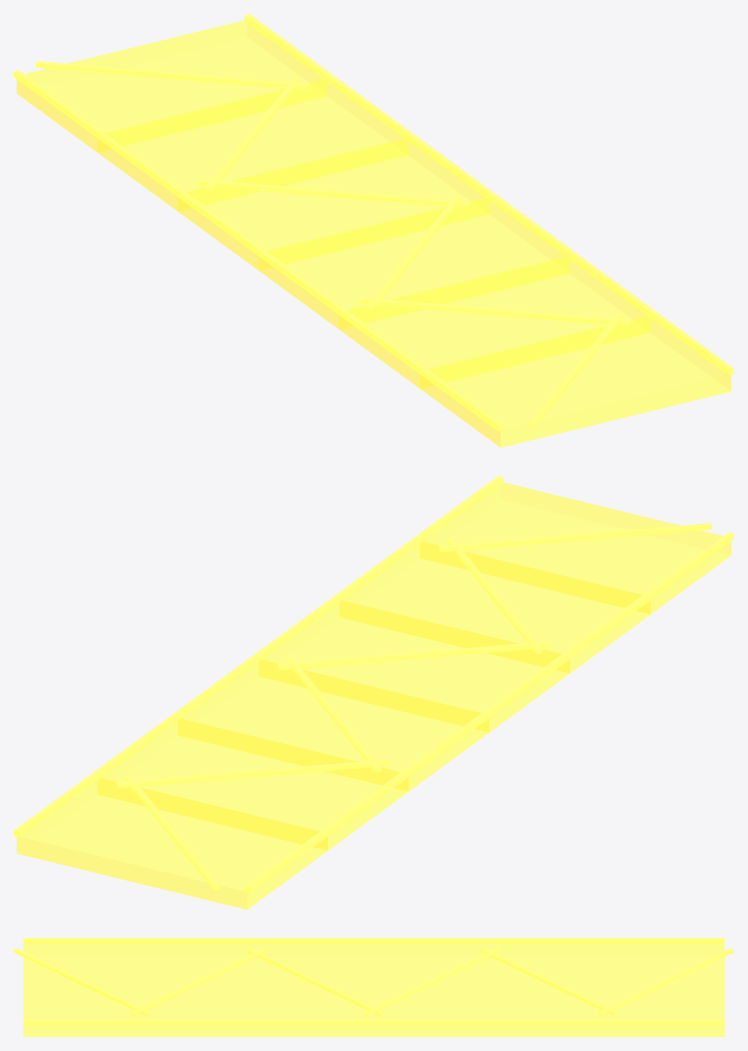
The model's file is SM_Puente_Cuerpo.fbx.
3 renders of one model, top to bottom at view 1: azimuth 30°, elevation 25°; view 2: azimuth 150°, elevation 25°; view 3: azimuth 270°, elevation 25°, orthographic. The views are drawn at different scales.
Visible parts, largest first — view 1: BridgePanel_1, BridgePanel_3, BridgePanel_5, BridgePanel_6, BridgePanel_4, BridgePanel_2, Bridge_Edge_L, Bridge_Edge_R, BridgeFacet_6, BridgeFacet_2, BridgeFacet_4, BridgeFacet_1 (+2 smaller); view 2: BridgePanel_6, BridgePanel_2, BridgePanel_4, BridgePanel_1, BridgePanel_5, BridgePanel_3, Bridge_Edge_L, Bridge_Edge_R, BridgeFacet_1, BridgeFacet_3, BridgeFacet_5, BridgeFacet_6 (+2 smaller); view 3: BridgePanel_1, BridgePanel_6, BridgePanel_2, BridgePanel_5, BridgePanel_3, BridgePanel_4, Bridge_Edge_R, Bridge_Edge_L, BridgeFacet_1, BridgeFacet_6, BridgeFacet_3, BridgeFacet_4 (+2 smaller).
Part boxes in pixels (x1,y1,x2,y2): BridgePanel_1: (420,316,731,447); BridgePanel_3: (258,197,569,329); BridgePanel_5: (97,79,408,211); BridgePanel_6: (16,20,327,151); BridgePanel_4: (178,138,488,270); BridgePanel_2: (339,257,650,388); Bridge_Edge_L: (14,70,503,431); Bridge_Edge_R: (244,14,733,374); BridgeFacet_6: (36,61,308,90); BridgeFacet_2: (358,297,631,326); BridgeFacet_4: (197,179,469,208); BridgeFacet_1: (528,313,622,428); BridgePanel_6: (16,778,327,909); BridgePanel_2: (339,541,650,673); BridgePanel_4: (178,659,489,791); BridgePanel_1: (420,482,731,614); BridgePanel_5: (97,719,408,850); BridgePanel_3: (259,600,569,732); Bridge_Edge_L: (244,532,733,893); Bridge_Edge_R: (14,476,503,836); BridgeFacet_1: (439,523,711,552); BridgeFacet_3: (278,641,550,670); BridgeFacet_5: (116,759,389,788); BridgeFacet_6: (125,775,219,890); BridgePanel_1: (23,944,140,1036); BridgePanel_6: (607,944,724,1036); BridgePanel_2: (140,944,256,1036); BridgePanel_5: (491,944,607,1036); BridgePanel_3: (257,944,373,1036); BridgePanel_4: (374,944,490,1036); Bridge_Edge_R: (23,1019,724,1025); Bridge_Edge_L: (23,938,724,943); BridgeFacet_1: (14,948,149,1015); BridgeFacet_6: (598,948,733,1015); BridgeFacet_3: (247,948,383,1015); BridgeFacet_4: (364,948,500,1015).
Bounding box in the file's own units: 2.25 × 0.205 × 8.21.
